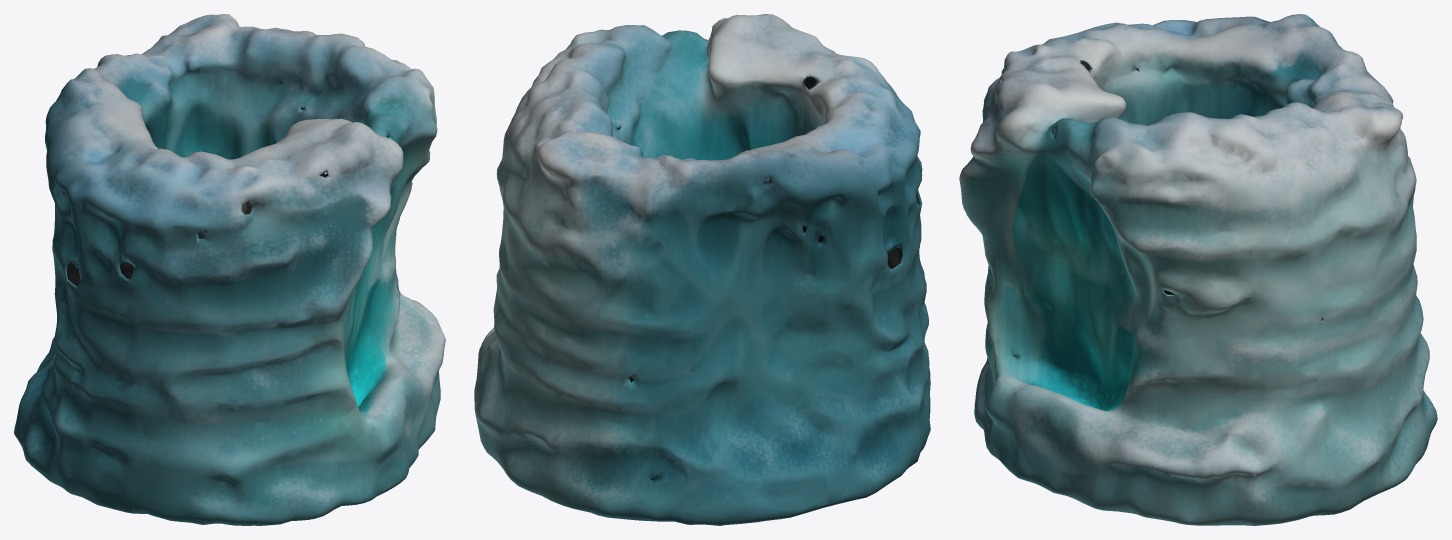
3 views of the same model, side by side, from view 1: azimuth 30°, elevation 25°; view 2: azimuth 150°, elevation 25°; view 3: azimuth 270°, elevation 25° (orthographic). The views are drawn at different scales.
Visible parts, largest first — view 1: world; view 2: world; view 3: world.
Part boxes in pixels (box(x1,y1,x2,y2)): world: box(14, 14, 445, 525); world: box(474, 14, 930, 525); world: box(959, 14, 1437, 525).
Size of the model in its own units: 20 by 17.46 by 19.81.
Materials: 1 (1 with a texture image).
